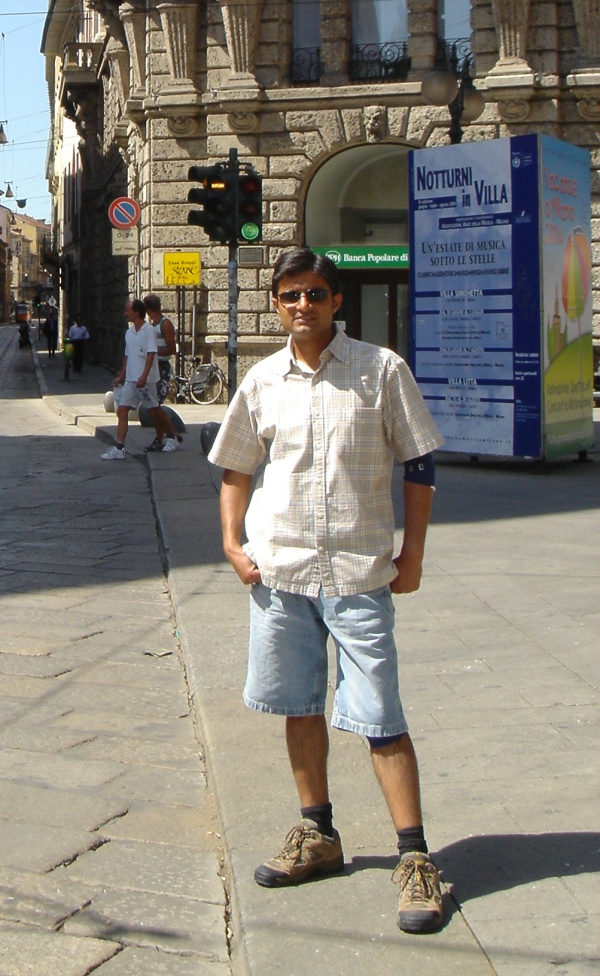person: (209, 250, 447, 931)
